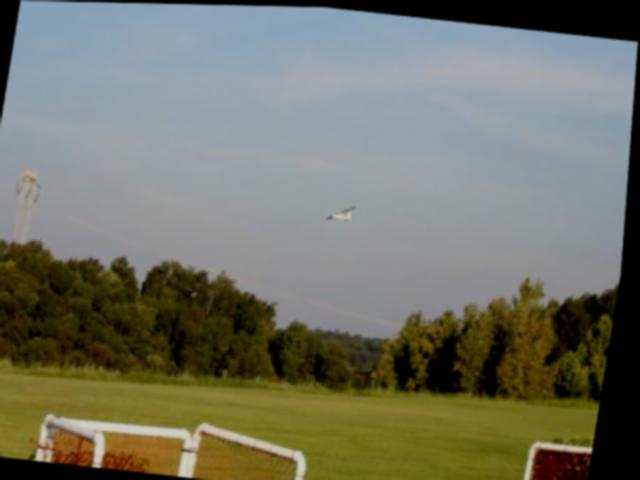uav: (324, 198, 361, 223)
